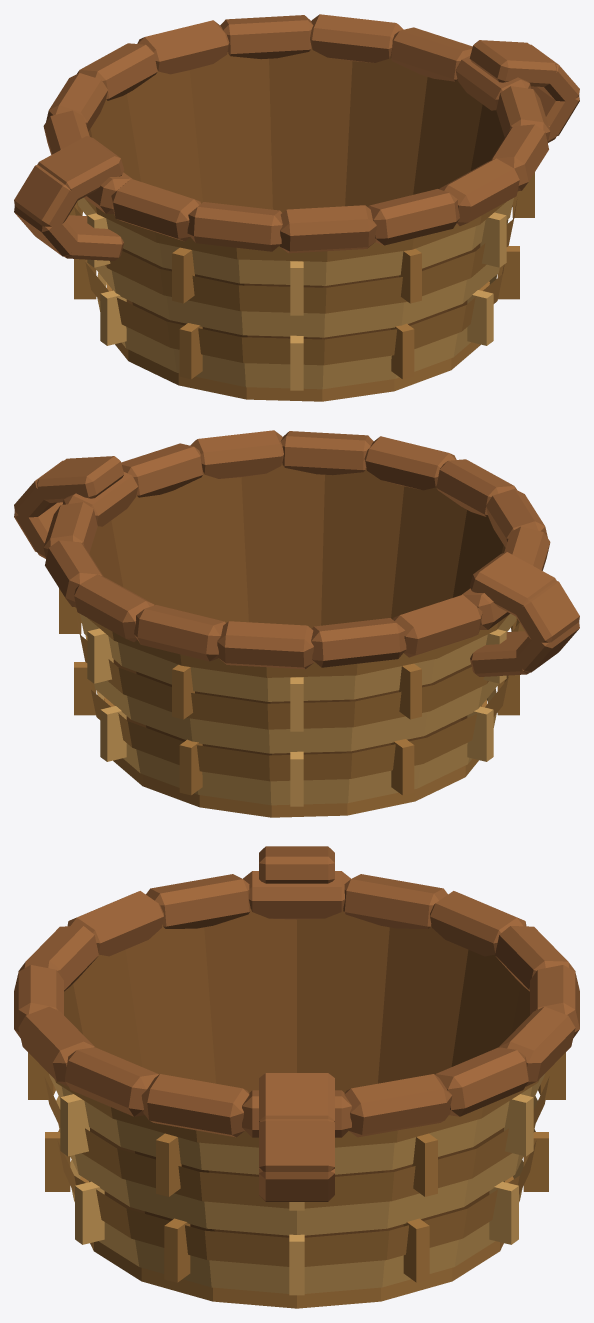
File: Sepet.fbx
3 renders of one model, top to bottom at view 1: azimuth 30°, elevation 25°; view 2: azimuth 150°, elevation 25°; view 3: azimuth 270°, elevation 25°, orthographic. The views are drawn at different scales.
Visible parts, largest first — view 1: Sepet; view 2: Sepet; view 3: Sepet.
Part boxes in pixels (left/top/right/bottom): Sepet: left=14, top=14, right=579, bottom=401; Sepet: left=14, top=430, right=579, bottom=817; Sepet: left=14, top=846, right=579, bottom=1308.
Bounding box in the file's own units: 83.04 × 32.74 × 66.92.
